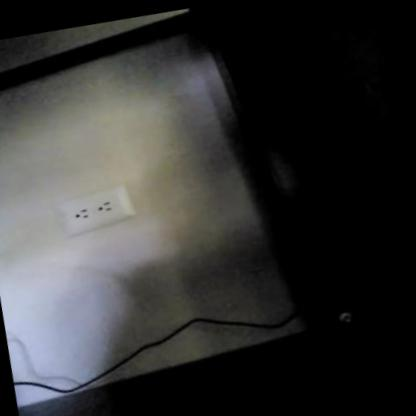OUTLET: (49, 181, 138, 239)
